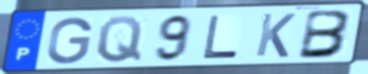9: (153, 13, 195, 63)
B: (296, 9, 355, 61)
G: (44, 16, 95, 66)
K: (253, 12, 298, 59)
L: (201, 15, 241, 61)
Q: (94, 14, 144, 65)
